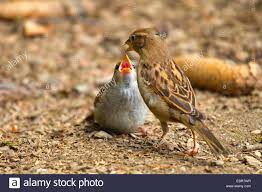hsparrow: (121, 18, 229, 156), (86, 53, 153, 139)
